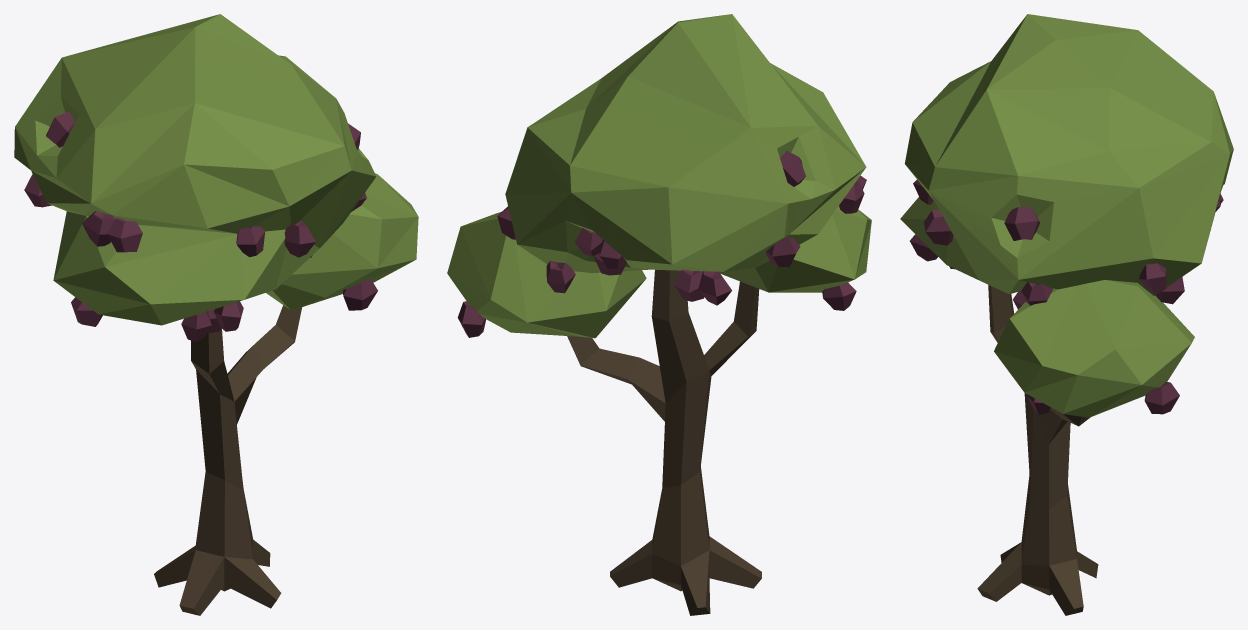
File: plum_tree.glb
3 renders of one model, left to right at view 1: azimuth 30°, elevation 25°; view 2: azimuth 150°, elevation 25°; view 3: azimuth 270°, elevation 25°, orthographic. The views are drawn at different scales.
Visible parts, largest first — view 1: SM_Env_Tree_Plum_Grown_01; view 2: SM_Env_Tree_Plum_Grown_01; view 3: SM_Env_Tree_Plum_Grown_01.
Boxes of the visible parts, <box> form: SM_Env_Tree_Plum_Grown_01: <box>14,14,418,615</box>; SM_Env_Tree_Plum_Grown_01: <box>447,14,871,615</box>; SM_Env_Tree_Plum_Grown_01: <box>900,14,1233,615</box>.
Size of the model in its own units: 2.52 by 3.74 by 2.01.
Materials: 1 (1 with a texture image).
